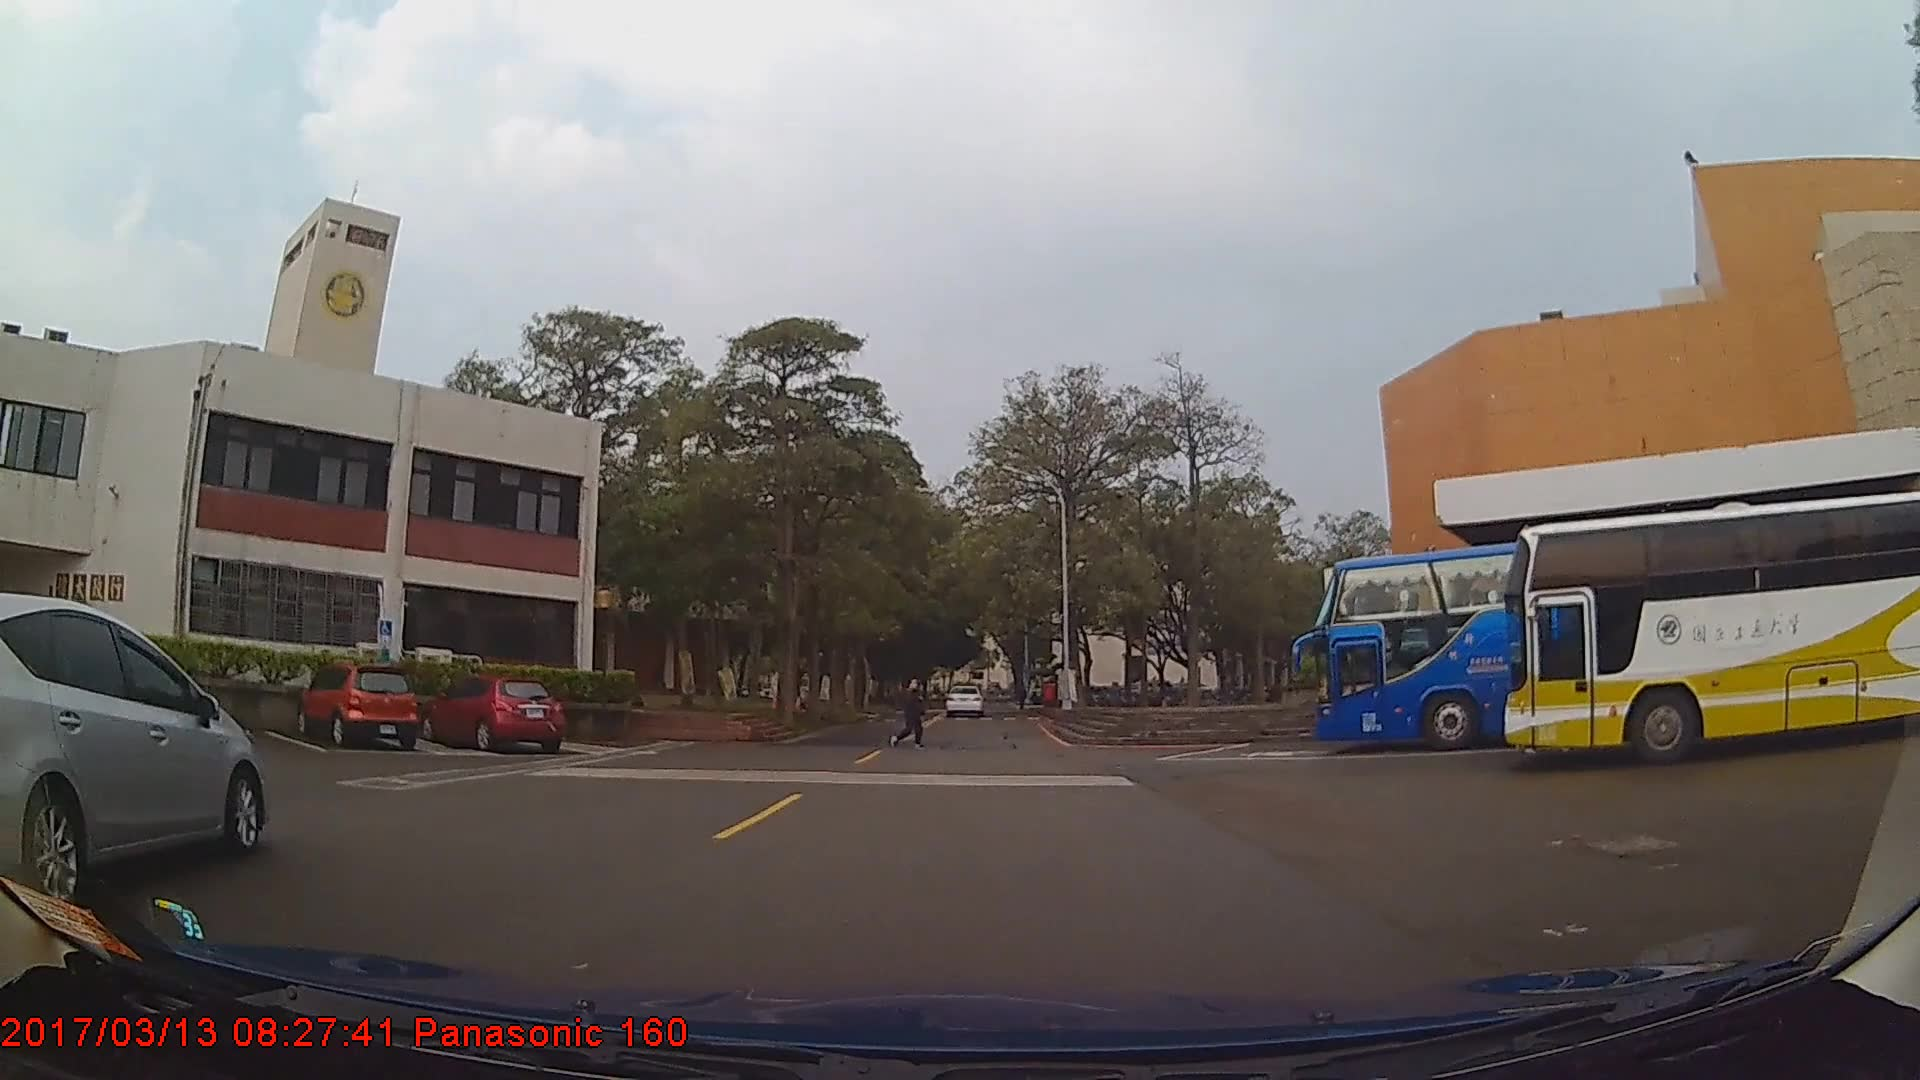pedestrian: (899, 674, 927, 748)
vehicle: (1309, 525, 1920, 750), (1503, 488, 1920, 764), (0, 590, 269, 914), (418, 672, 565, 750), (293, 662, 419, 748), (943, 681, 985, 717)
